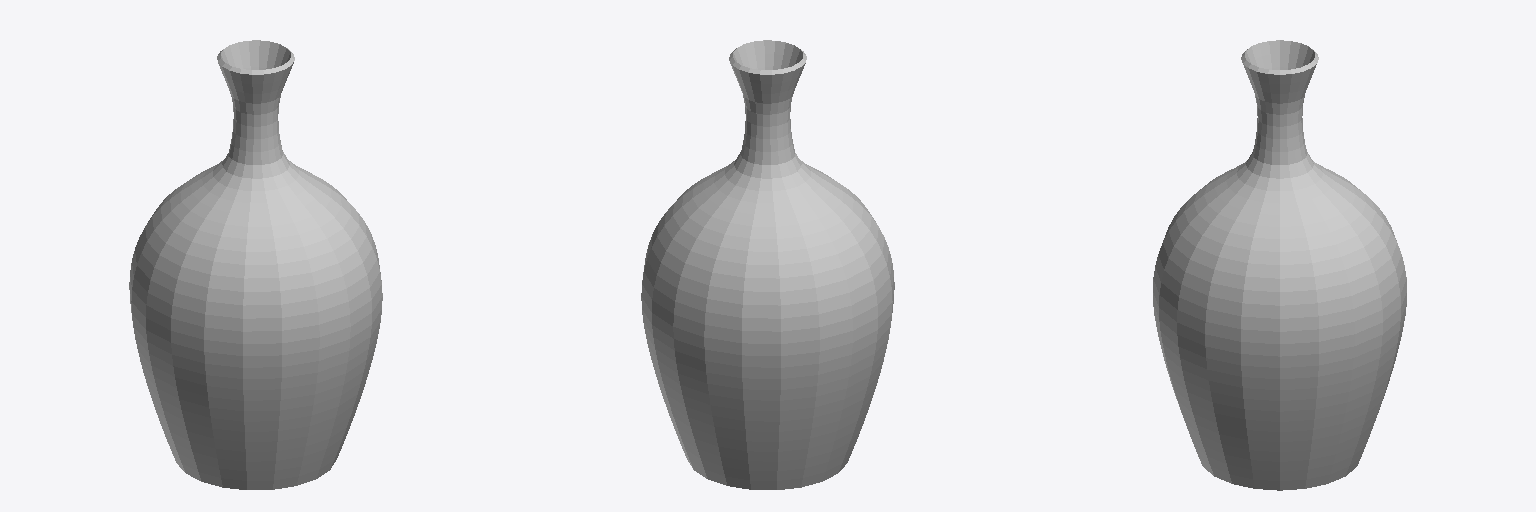
File: Vase1.obj
3 renders of one model, left to right at view 1: azimuth 30°, elevation 25°; view 2: azimuth 150°, elevation 25°; view 3: azimuth 270°, elevation 25°, orthographic.
Parts seen in each view (by area): view 1: Lathe; view 2: Lathe; view 3: Lathe.
Boxes of the visible parts, x1=… form: Lathe: x1=129, y1=40, x2=382, y2=489; Lathe: x1=641, y1=40, x2=894, y2=489; Lathe: x1=1153, y1=40, x2=1406, y2=490.
Bounding box in the file's own units: 127 × 221 × 127.